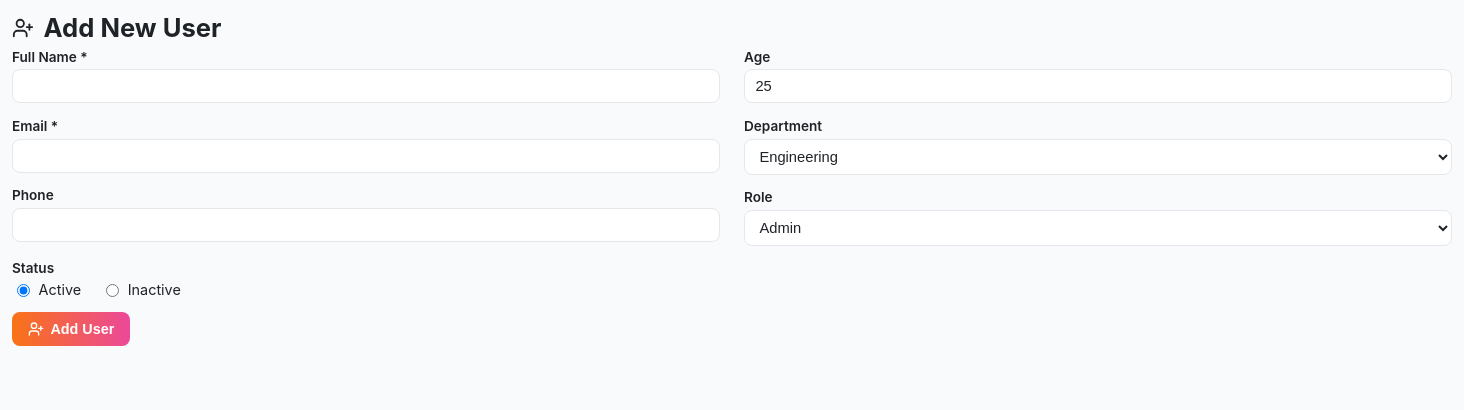
Scenario: AddUser › submits a valid form, shows the email-sent confirmation, and resets
Type "Alice Smith" into the field labelled "Full Name *" at (366, 86), box x1=12 y1=69 x2=720 y2=103
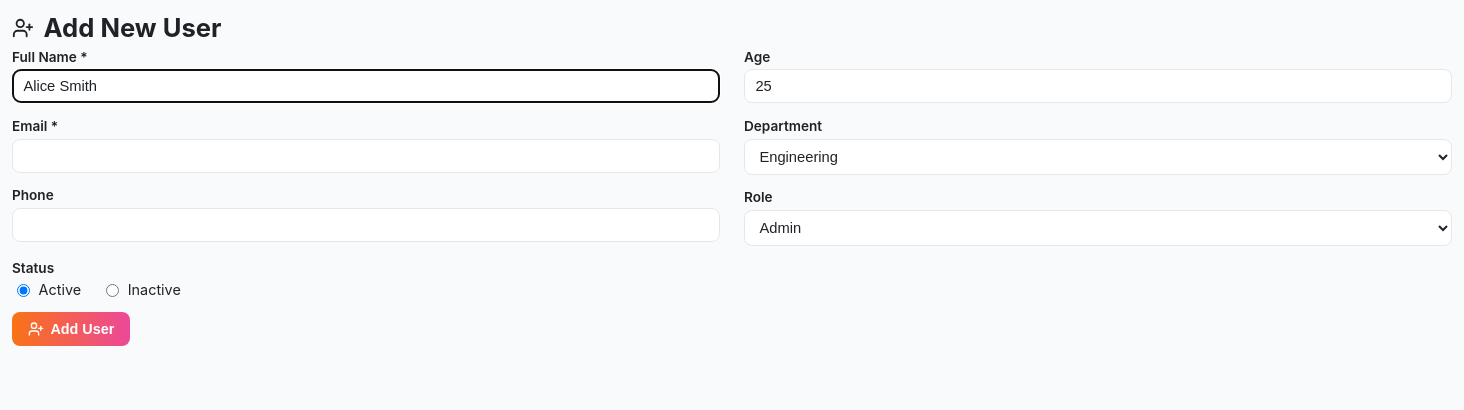
Type "alice@example.com" into the field labelled "Email *" at (366, 156), box x1=12 y1=139 x2=720 y2=173
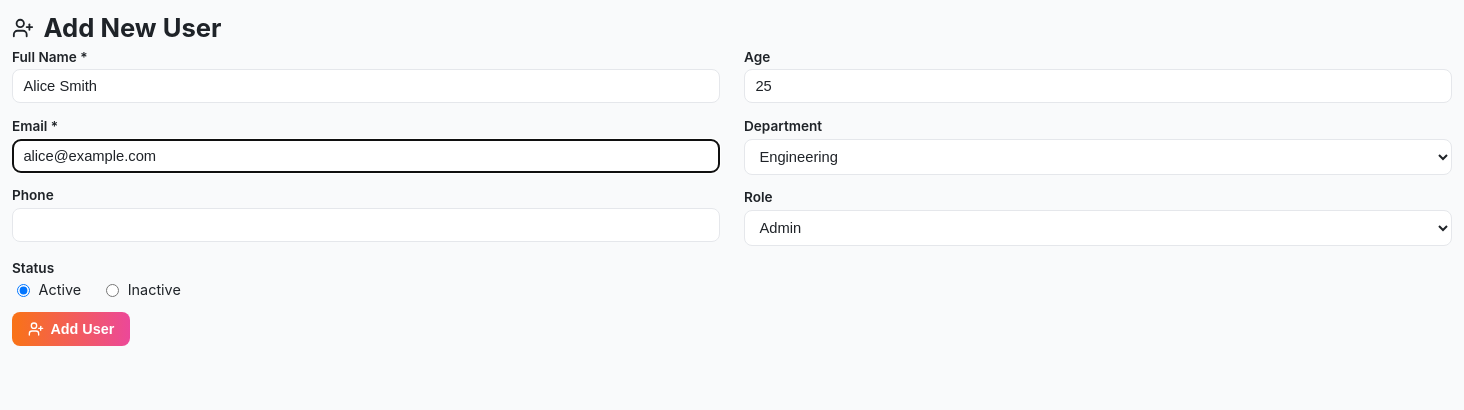
Click the button "Add User" at (71, 329), box x1=12 y1=312 x2=130 y2=346
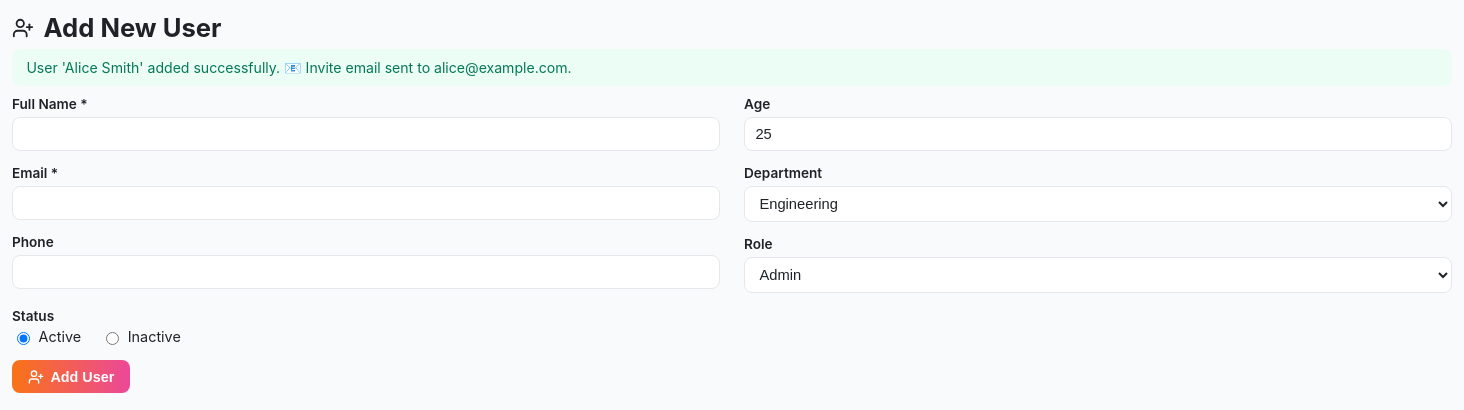
Expected: the text "Invite email sent" is shown, x1=26 y1=59 x2=572 y2=76
